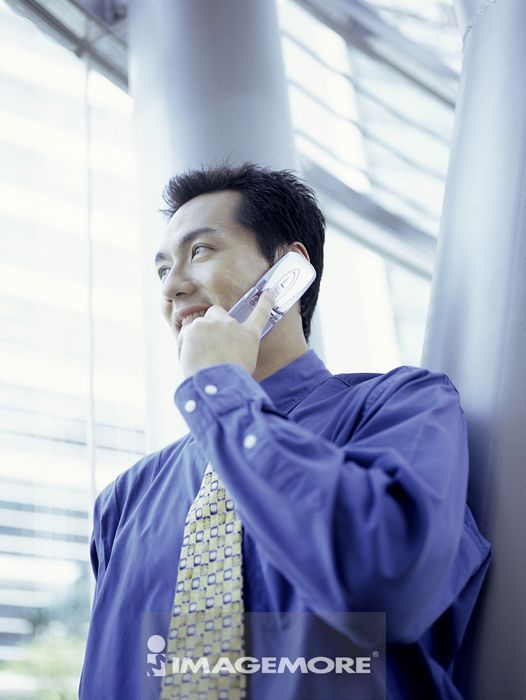talk: (154, 224, 318, 387)
